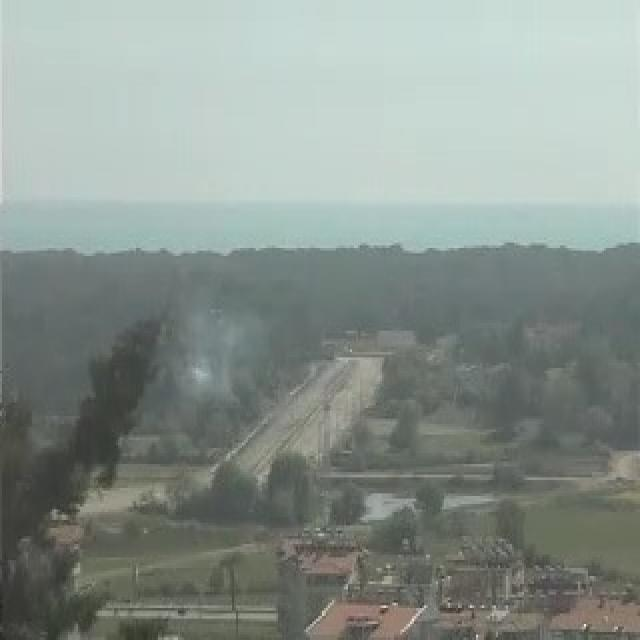smoke: (166, 316, 250, 409)
